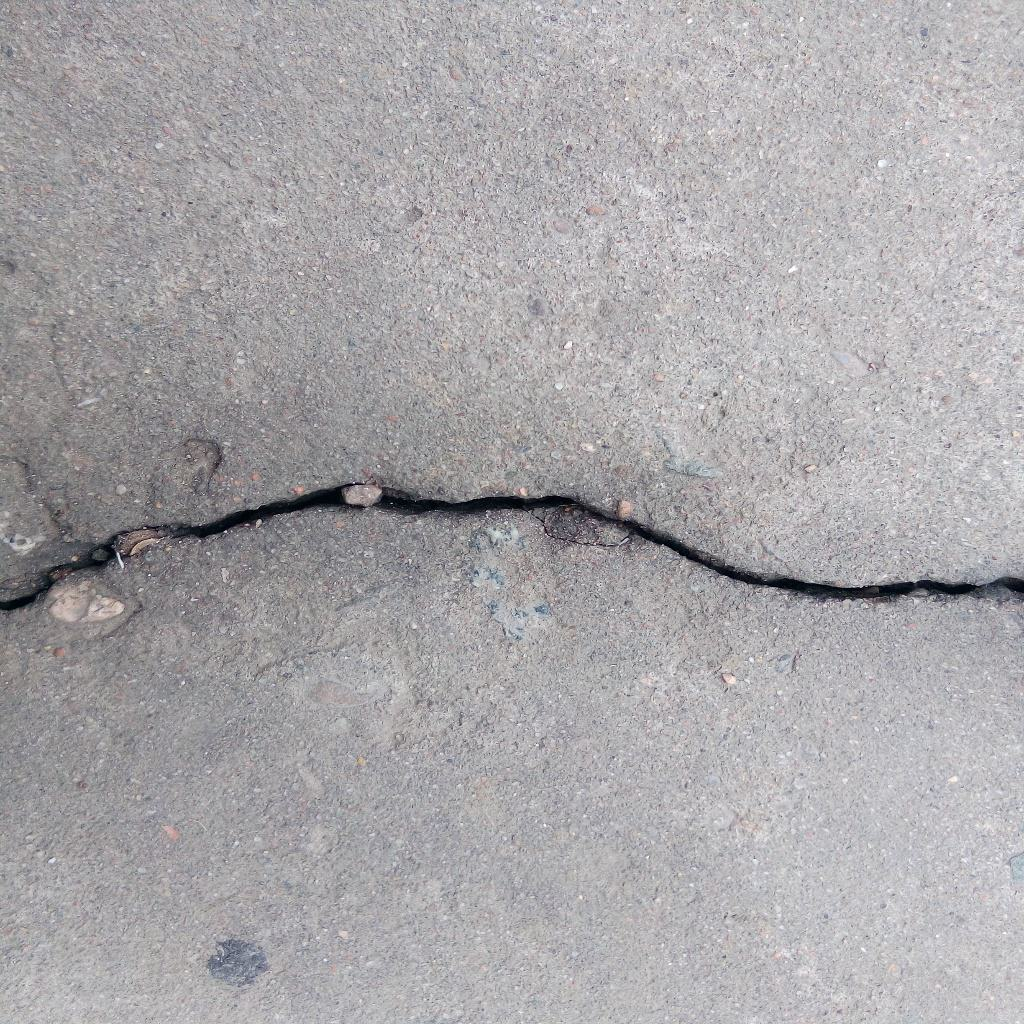Crack: (1, 481, 1024, 613)
Spalling: (182, 436, 222, 481)
